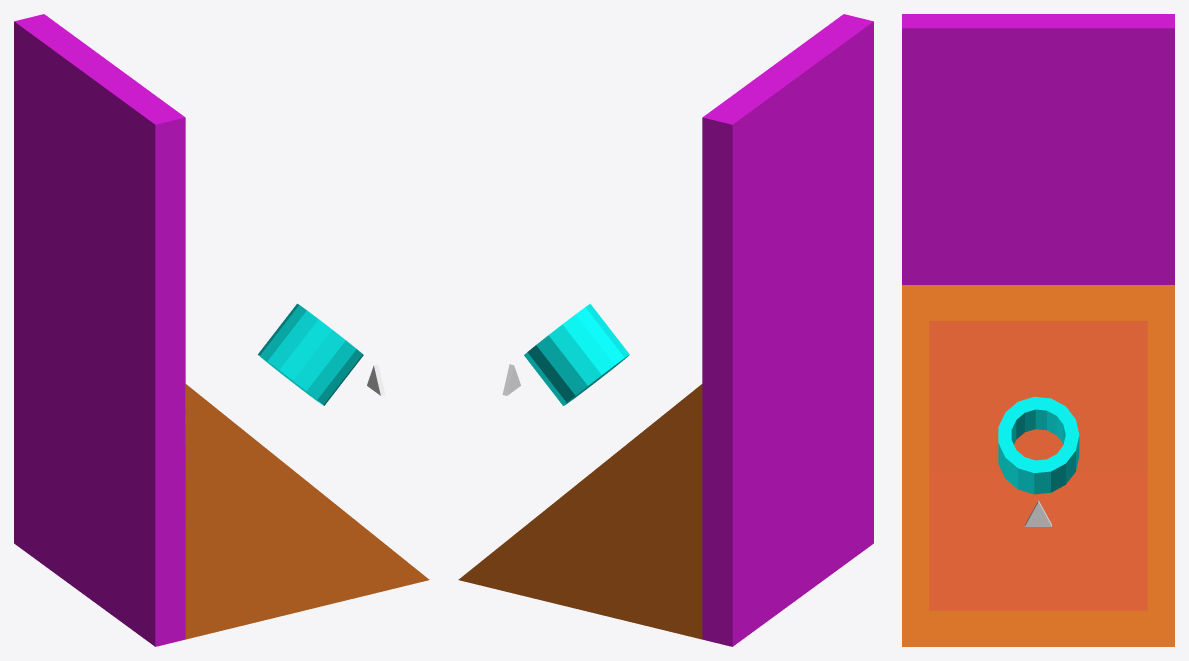
File: CanchaTejo1.fbx
3 renders of one model, left to right at view 1: azimuth 30°, elevation 25°; view 2: azimuth 150°, elevation 25°; view 3: azimuth 270°, elevation 25°, orthographic. The views are drawn at different scales.
Visible parts, largest first — view 1: Cube.002, Cube, Cylinder; view 2: Cube.002, Cube, Cylinder; view 3: Cube.002, Cube.001, Cube, Cylinder, mecha.
Boxes of the visible parts, left/top/right/bottom form: Cube.002: left=14, top=14, right=185, bottom=646; Cube: left=185, top=383, right=429, bottom=639; Cylinder: left=258, top=303, right=363, bottom=405; Cube.002: left=702, top=14, right=873, bottom=646; Cube: left=458, top=384, right=702, bottom=639; Cylinder: left=524, top=303, right=629, bottom=405; Cube.002: left=902, top=14, right=1174, bottom=284; Cube.001: left=929, top=321, right=1147, bottom=610; Cube: left=902, top=285, right=1174, bottom=646; Cylinder: left=998, top=396, right=1079, bottom=494; mecha: left=1025, top=500, right=1051, bottom=526.
Size of the model in its own units: 240 by 408 by 200.
